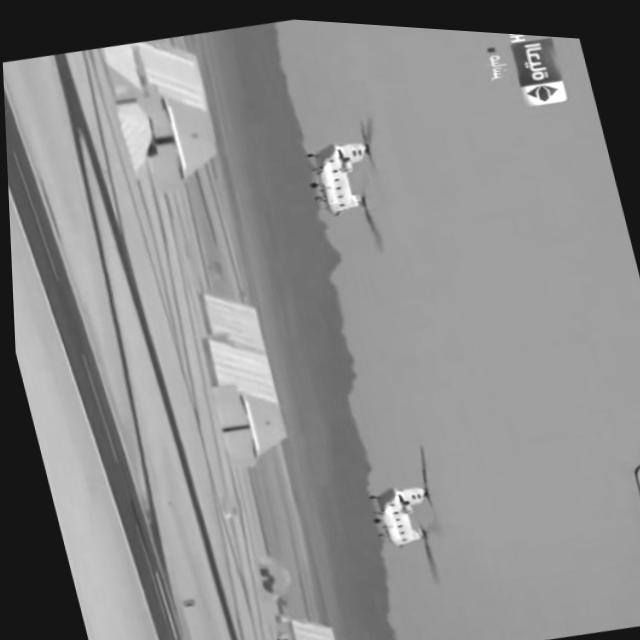helikopter: (271, 105, 417, 247), (341, 448, 470, 566)
